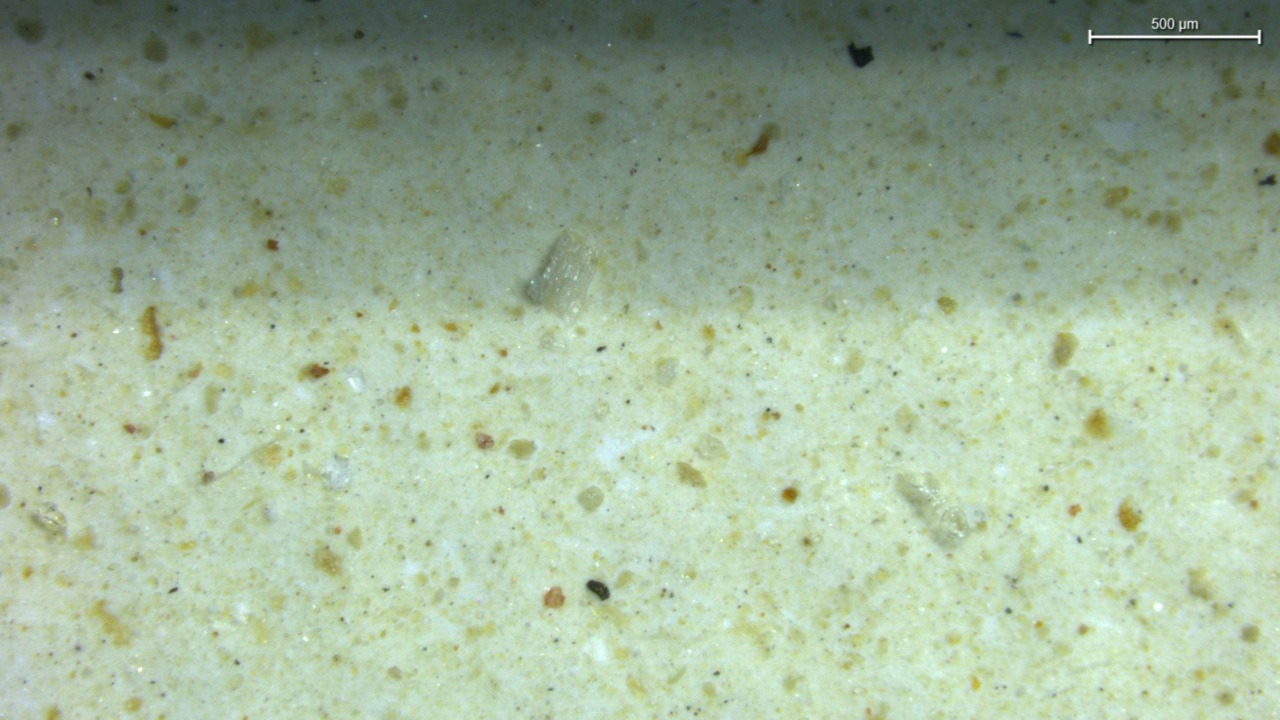microplastic_fragment: (897, 473, 987, 548), (522, 231, 592, 320)
